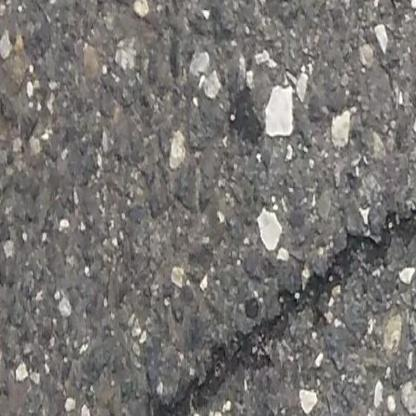Cracks: (142, 171, 416, 416)
